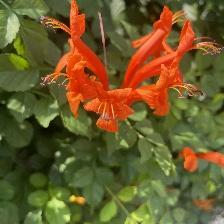honeysuckle: (51, 2, 212, 133)
